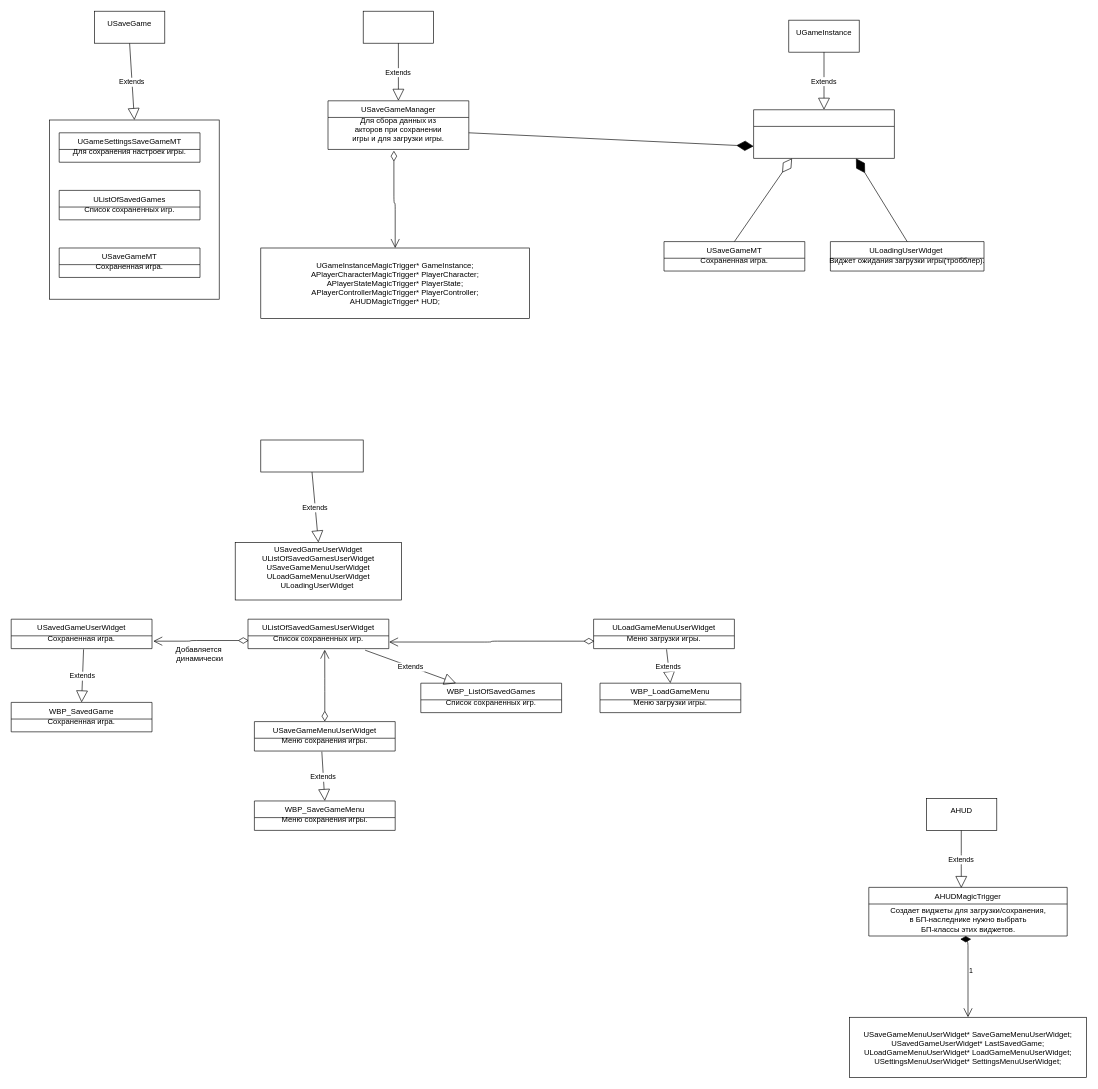
The diagram is 1098 pixels wide and 1089 high, and some of its shapes have lost their labels. Each missing label, with the centre of its shape:
UGameInstanceMagicTrigger: [823,133]
UObject: [398,27]
UParentUserWidgetMT: [311,455]
